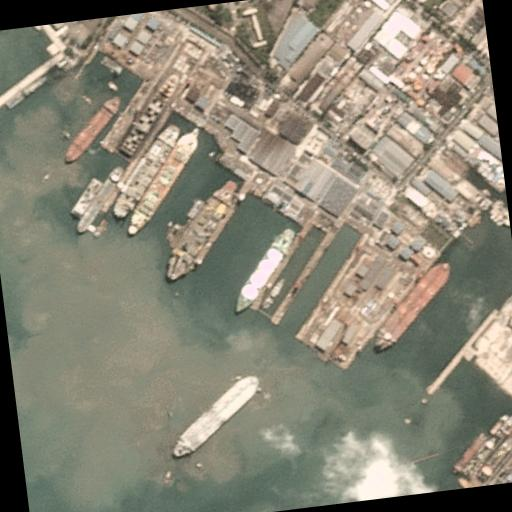ship: (118, 129, 210, 236), (158, 179, 250, 281), (364, 262, 460, 353), (165, 374, 269, 456), (105, 124, 189, 218), (228, 229, 302, 313), (114, 73, 188, 155), (58, 94, 127, 164), (70, 166, 128, 235)
